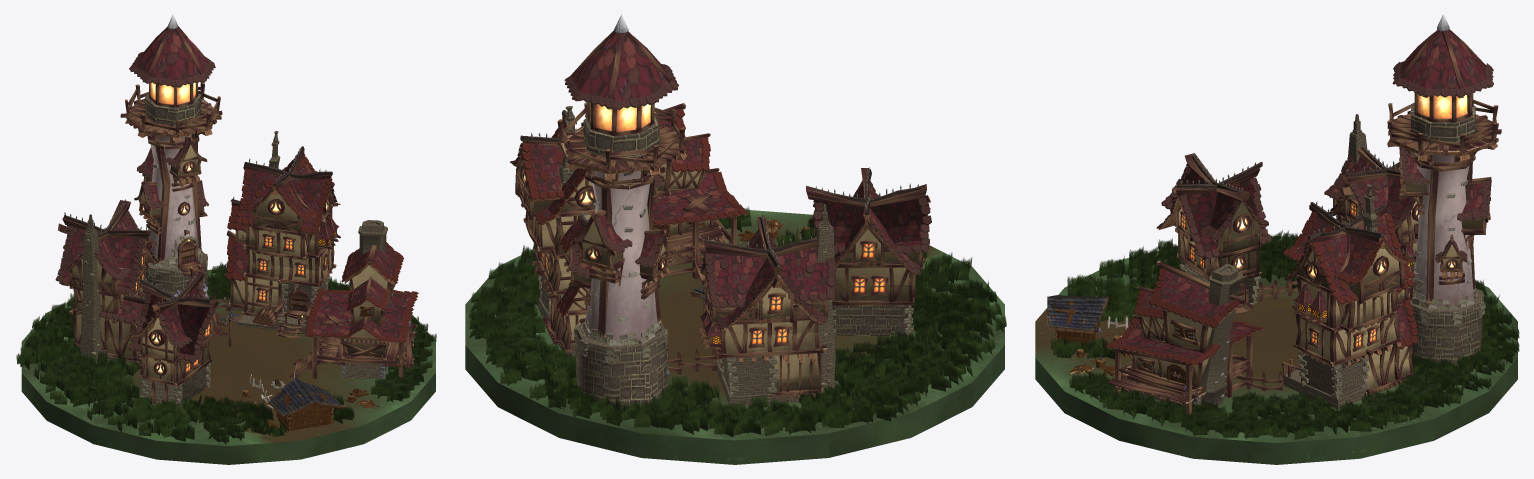
Rendered from village.glb.
The picture shows the model from 3 angles, left to right: view 1: azimuth 30°, elevation 25°; view 2: azimuth 150°, elevation 25°; view 3: azimuth 270°, elevation 25°; orthographic projection. The views are drawn at different scales.
Visible parts, largest first — view 1: Object_30, Object_22, Object_25, Object_27, Object_19, Object_15, Object_8, Object_33, Object_17, Object_21, Object_5, Object_18 (+3 smaller); view 2: Object_25, Object_30, Object_22, Object_33, Object_27, Object_21, Object_5, Object_8, Object_18, Object_6, Object_19, Object_16 (+2 smaller); view 3: Object_30, Object_25, Object_22, Object_21, Object_33, Object_27, Object_15, Object_19, Object_17, Object_8, Object_16, Object_5 (+3 smaller).
Part boxes in pixels (x1=…): Object_30: x1=21, y1=269, x2=435, y2=464; Object_22: x1=58, y1=151, x2=416, y2=403; Object_25: x1=16, y1=262, x2=436, y2=444; Object_27: x1=120, y1=26, x2=275, y2=367; Object_19: x1=138, y1=158, x2=411, y2=344; Object_15: x1=225, y1=146, x2=418, y2=342; Object_8: x1=55, y1=199, x2=228, y2=408; Object_33: x1=129, y1=14, x2=215, y2=289; Object_17: x1=140, y1=144, x2=387, y2=355; Object_21: x1=144, y1=92, x2=387, y2=379; Object_5: x1=60, y1=214, x2=219, y2=360; Object_18: x1=75, y1=214, x2=207, y2=404; Object_25: x1=467, y1=204, x2=1006, y2=437; Object_30: x1=465, y1=210, x2=1004, y2=464; Object_22: x1=512, y1=103, x2=930, y2=399; Object_33: x1=564, y1=14, x2=678, y2=362; Object_27: x1=557, y1=30, x2=834, y2=374; Object_21: x1=538, y1=106, x2=703, y2=406; Object_5: x1=700, y1=180, x2=928, y2=336; Object_8: x1=698, y1=167, x2=931, y2=396; Object_18: x1=716, y1=204, x2=906, y2=405; Object_6: x1=716, y1=227, x2=919, y2=391; Object_19: x1=515, y1=115, x2=921, y2=313; Object_16: x1=569, y1=33, x2=672, y2=269; Object_30: x1=1035, y1=236, x2=1517, y2=464; Object_25: x1=1050, y1=229, x2=1519, y2=439; Object_22: x1=1107, y1=147, x2=1418, y2=415; Object_21: x1=1136, y1=103, x2=1482, y2=409; Object_33: x1=1392, y1=14, x2=1493, y2=324; Object_27: x1=1246, y1=29, x2=1501, y2=391; Object_15: x1=1105, y1=201, x2=1418, y2=399; Object_19: x1=1118, y1=192, x2=1412, y2=359; Object_17: x1=1131, y1=182, x2=1483, y2=389; Object_8: x1=1156, y1=145, x2=1419, y2=304; Object_16: x1=1399, y1=31, x2=1489, y2=258; Object_5: x1=1167, y1=156, x2=1415, y2=257.
Bounding box in the file's own units: 3884 × 3135 × 3837.
22 materials, 19 textured.
